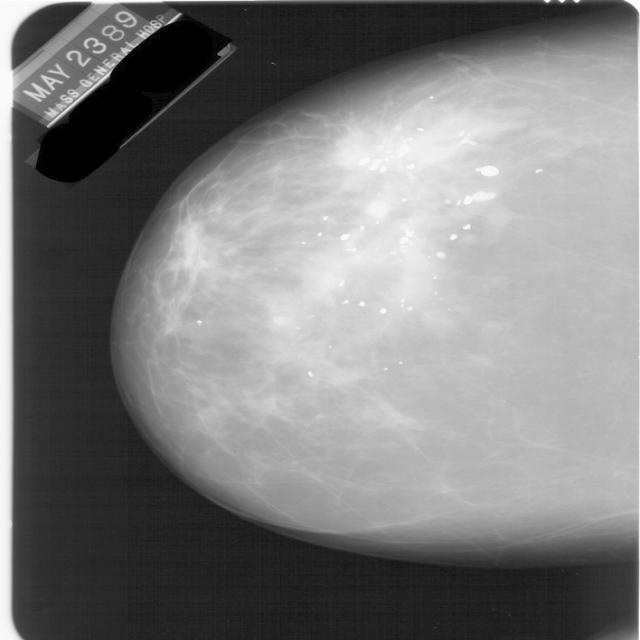tumour: (332, 120, 461, 174)
